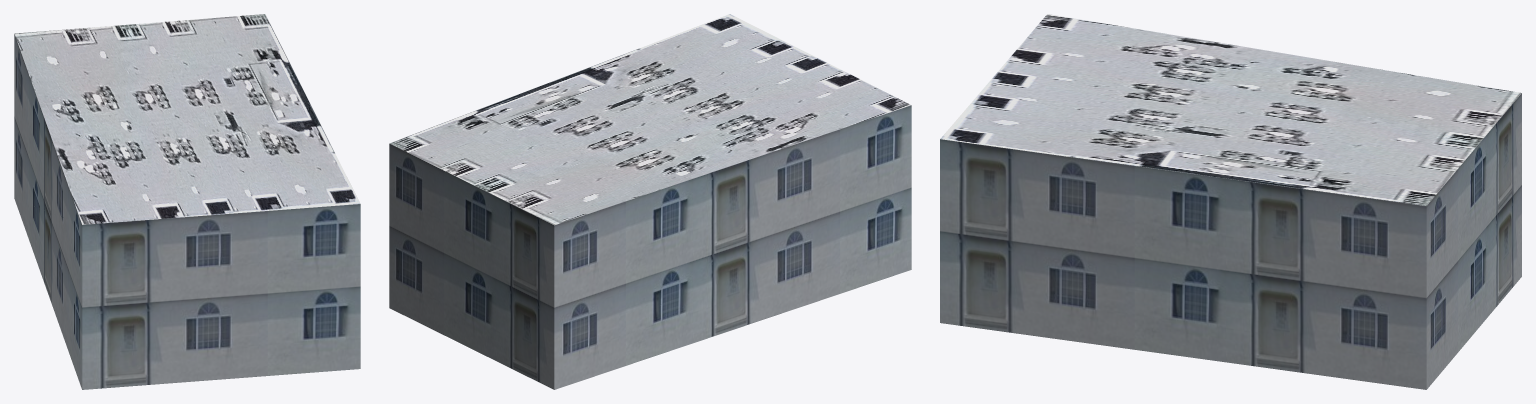
File: ResTex__389.fbx
The picture shows the model from 3 angles, left to right: view 1: azimuth 30°, elevation 25°; view 2: azimuth 150°, elevation 25°; view 3: azimuth 270°, elevation 25°; orthographic projection. The views are drawn at different scales.
Parts seen in each view (by area): view 1: CityEngineMaterial_17_m, CityEngineMaterial_m; view 2: CityEngineMaterial_17_m, CityEngineMaterial_m; view 3: CityEngineMaterial_17_m, CityEngineMaterial_m.
Part boxes in pixels (<box>): CityEngineMaterial_17_m: <box>14,34,360,389</box>; CityEngineMaterial_m: <box>14,14,360,224</box>; CityEngineMaterial_17_m: <box>389,105,911,389</box>; CityEngineMaterial_m: <box>389,14,911,225</box>; CityEngineMaterial_17_m: <box>940,93,1521,389</box>; CityEngineMaterial_m: <box>940,14,1521,205</box>.
Size of the model in its own units: 13.44 by 6 by 17.2.
Materials: 2 (2 with a texture image).
